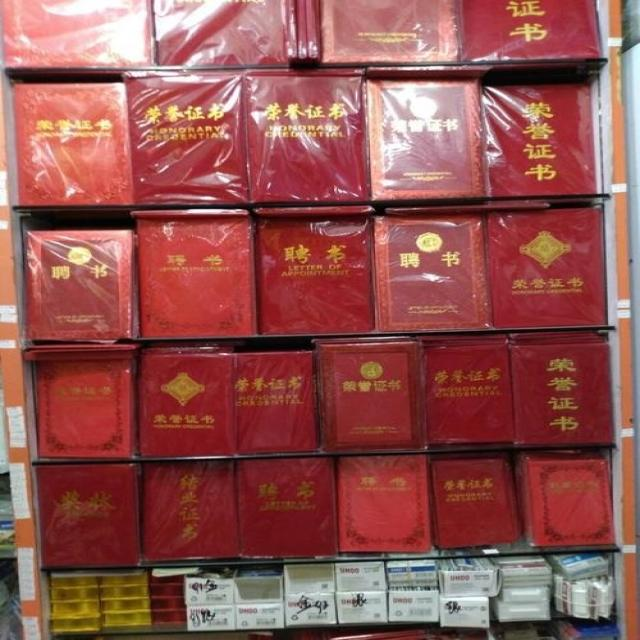box: (489, 583, 552, 621), (492, 557, 554, 587), (285, 593, 338, 628), (333, 561, 388, 592), (337, 592, 388, 625), (282, 564, 338, 593), (387, 591, 439, 622), (438, 597, 489, 628), (384, 560, 438, 586), (234, 603, 284, 631), (236, 577, 285, 605), (184, 579, 234, 606), (186, 605, 237, 631), (439, 572, 492, 597), (50, 599, 100, 618), (101, 609, 151, 627), (49, 615, 101, 632), (49, 583, 100, 600), (51, 571, 101, 586), (99, 585, 152, 599), (99, 598, 152, 612), (101, 569, 150, 584), (151, 608, 187, 625), (148, 569, 186, 584), (151, 596, 187, 609), (150, 584, 186, 596)
